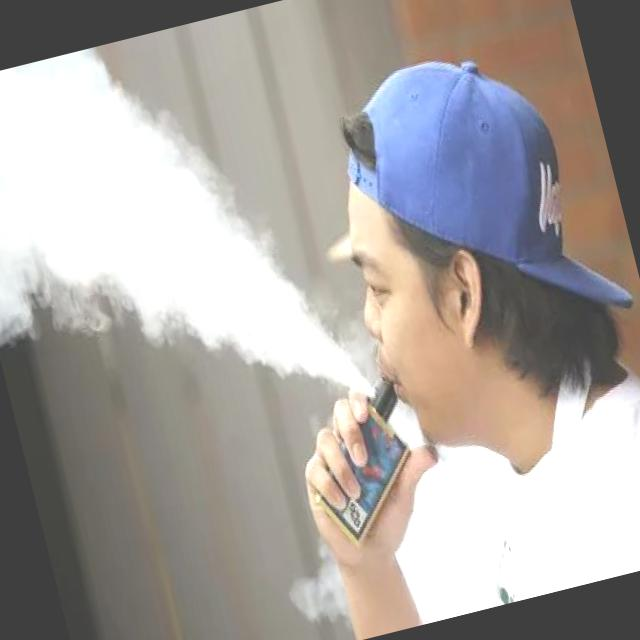cigarette: (286, 369, 442, 575)
